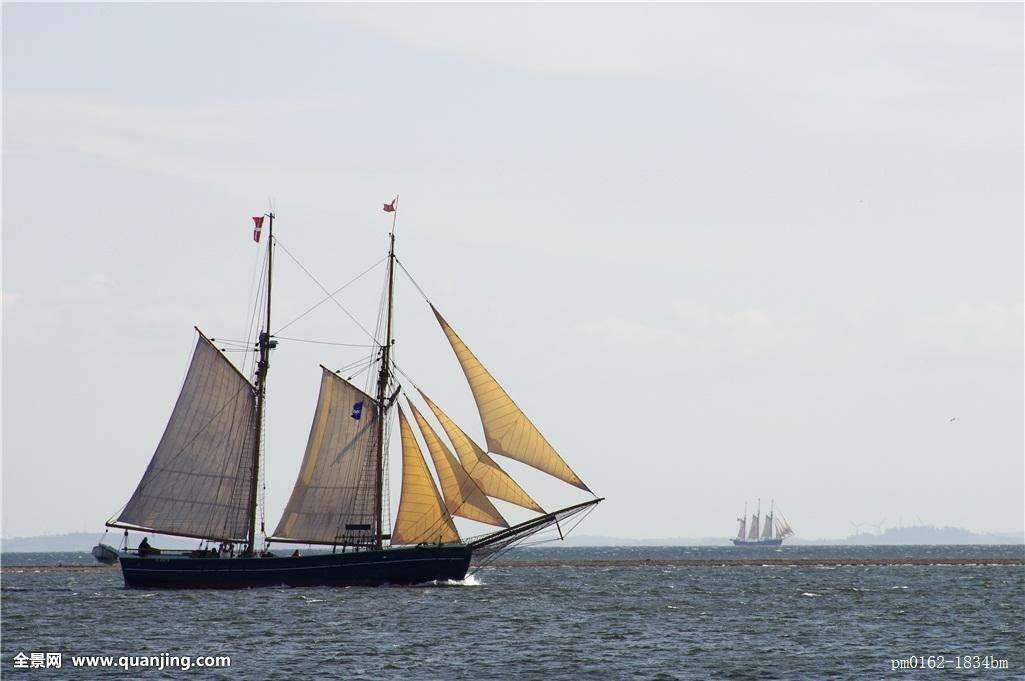fanchuan: (114, 185, 575, 593), (730, 499, 799, 554)
